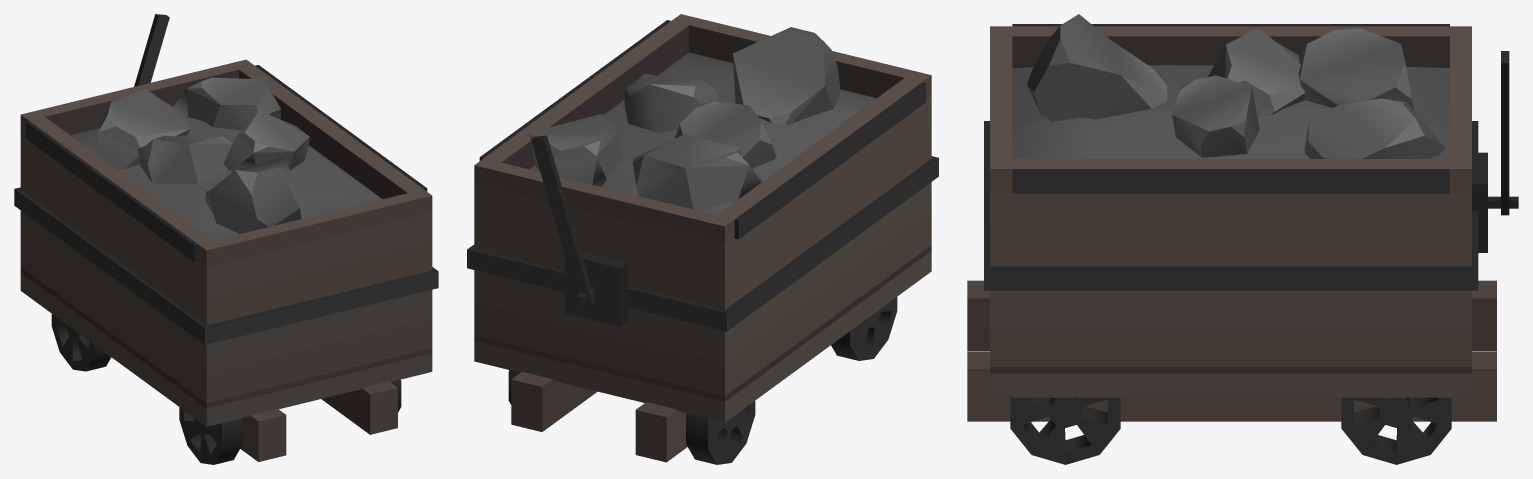
Rendered from vehicles-work-vehicles-mine-cart_v1.glb.
The picture shows the model from 3 angles, left to right: view 1: azimuth 30°, elevation 25°; view 2: azimuth 150°, elevation 25°; view 3: azimuth 270°, elevation 25°; orthographic projection. The views are drawn at different scales.
Parts seen in each view (by area): view 1: Mine Cart; view 2: Mine Cart; view 3: Mine Cart.
Boxes of the visible parts, x1,y1,x2,y2 form: Mine Cart: (14,14,438,464); Mine Cart: (467,14,938,464); Mine Cart: (967,14,1518,464).
Size of the model in its own units: 0.9521 by 1.14 by 1.5.
